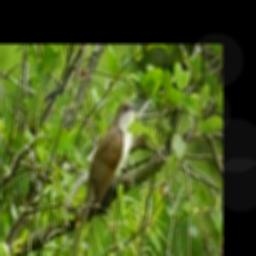Cuckoo: (72, 103, 139, 256)
